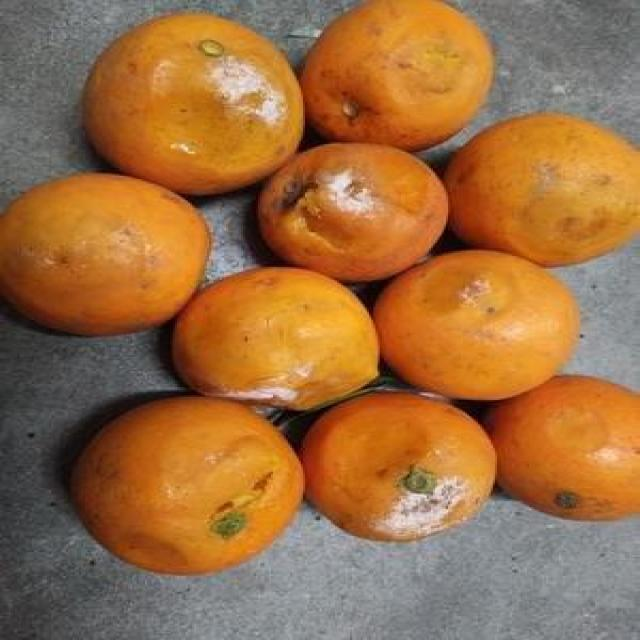Wet Waste: (0, 0, 638, 578)
